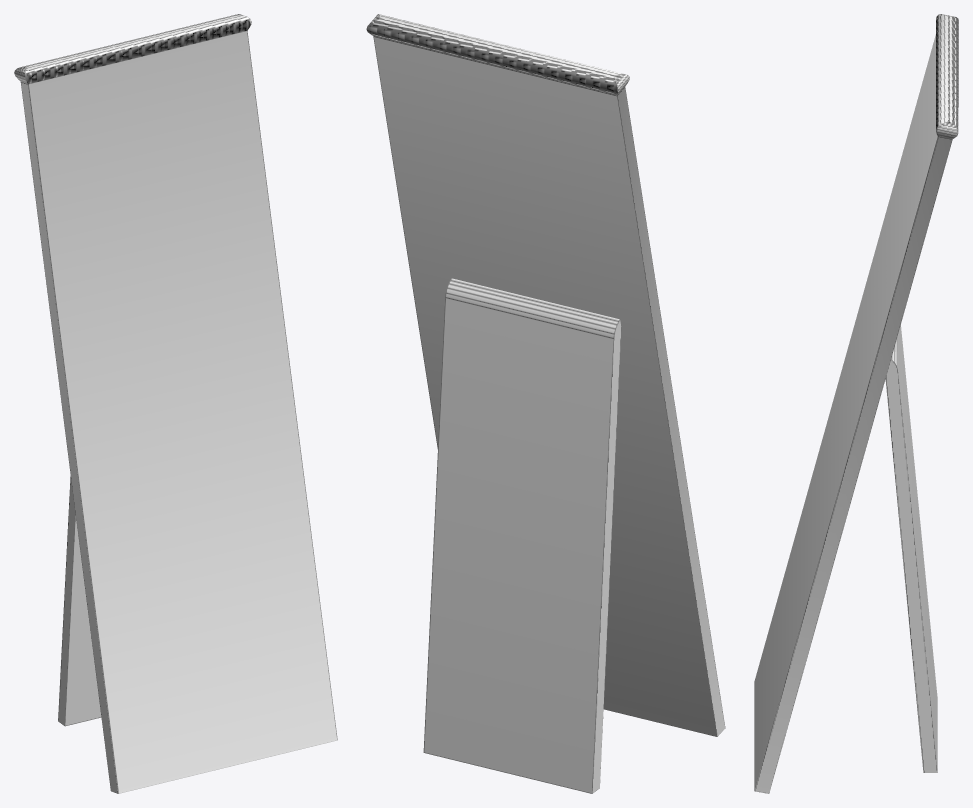
The picture shows the model from 3 angles, left to right: view 1: azimuth 30°, elevation 25°; view 2: azimuth 150°, elevation 25°; view 3: azimuth 270°, elevation 25°; orthographic projection. The views are drawn at different scales.
Parts seen in each view (by area): view 1: 镜子; view 2: 镜子; view 3: 镜子.
Boxes of the visible parts, x1=… form: 镜子: x1=14, y1=14, x2=337, y2=793; 镜子: x1=366, y1=14, x2=725, y2=793; 镜子: x1=754, y1=14, x2=958, y2=793.
Size of the model in its own units: 8.35 by 23.23 by 6.42.
